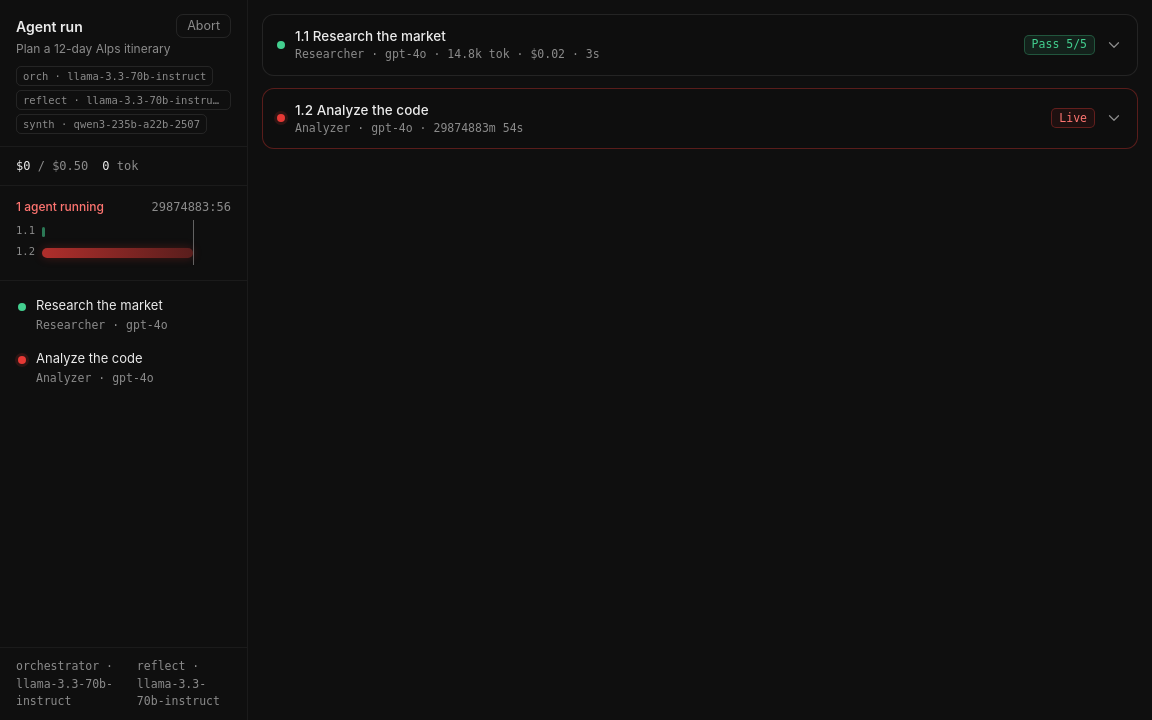
it: MultiAgentSidebarView (the widened sidebar dock) › accordion: every row starts collapsed, working or passed (no trace rendered); clicks toggle
Check: the text "Pass 5/5" is shown, box [1024,35,1095,55]
Click the button named "Expand trace" next to "Pass 5/5".
click(1114, 45)  # box [1105,36,1123,54]
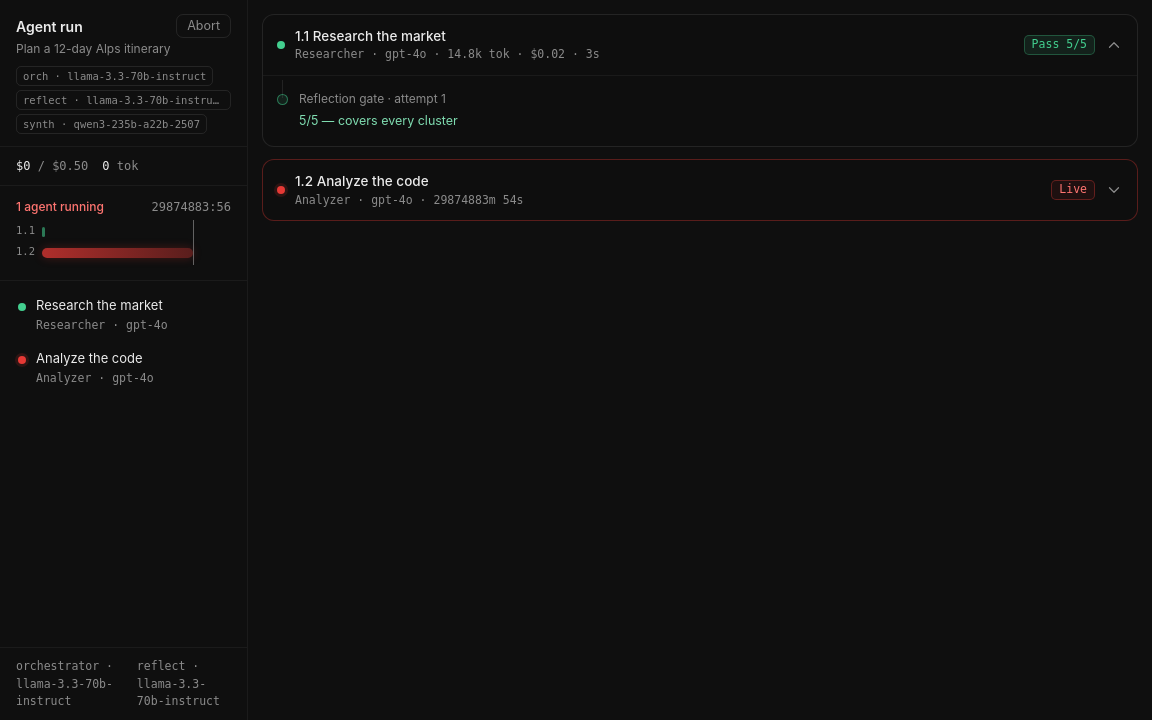
Check: the element with test id "agent-trace-1.1" is shown, box [263,74,1137,146]
Check: the element with test id "reflection-gate" shows "5/5 — covers every cluster", box [277,90,458,128]
